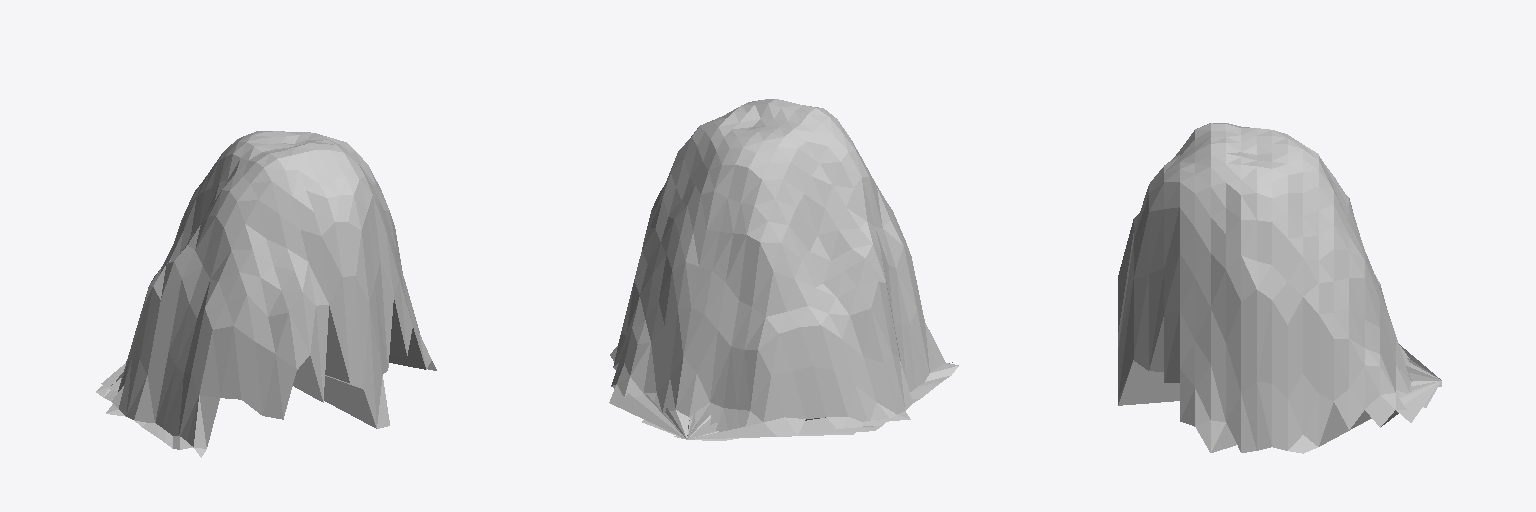
The model's file is tree_14.obj.
3 renders of one model, left to right at view 1: azimuth 30°, elevation 25°; view 2: azimuth 150°, elevation 25°; view 3: azimuth 270°, elevation 25°, orthographic.
Parts seen in each view (by area): view 1: tree_14_minus_dtm; view 2: tree_14_minus_dtm; view 3: tree_14_minus_dtm.
Boxes of the visible parts, x1=… form: tree_14_minus_dtm: x1=96, y1=131, x2=436, y2=457; tree_14_minus_dtm: x1=609, y1=99, x2=958, y2=440; tree_14_minus_dtm: x1=1118, y1=123, x2=1441, y2=453.
Size of the model in its own units: 22 by 18.06 by 21.